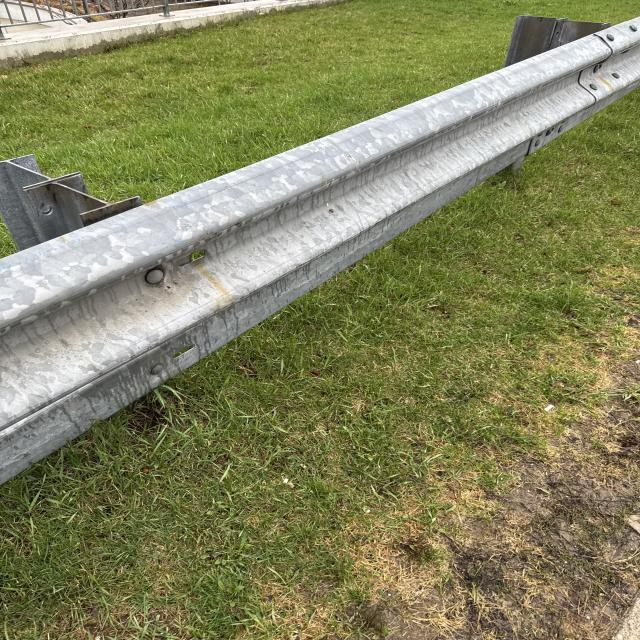Guard rail: (30, 34, 640, 451)
